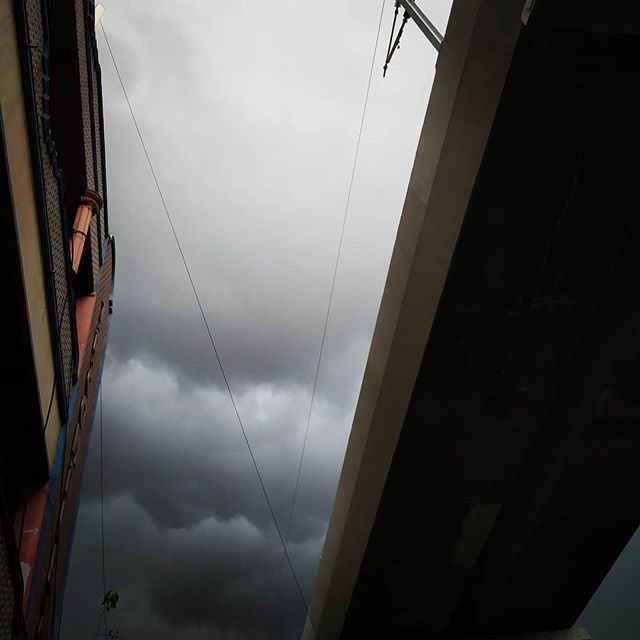bridge: (299, 1, 640, 626)
building: (1, 1, 106, 636)
sky: (87, 1, 402, 633)
